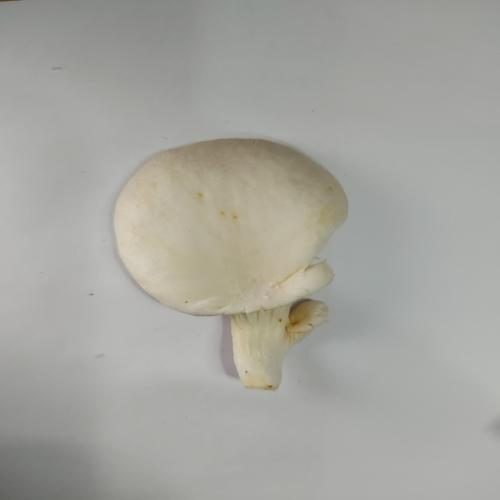Oyster Mushroom: (112, 137, 349, 391)
